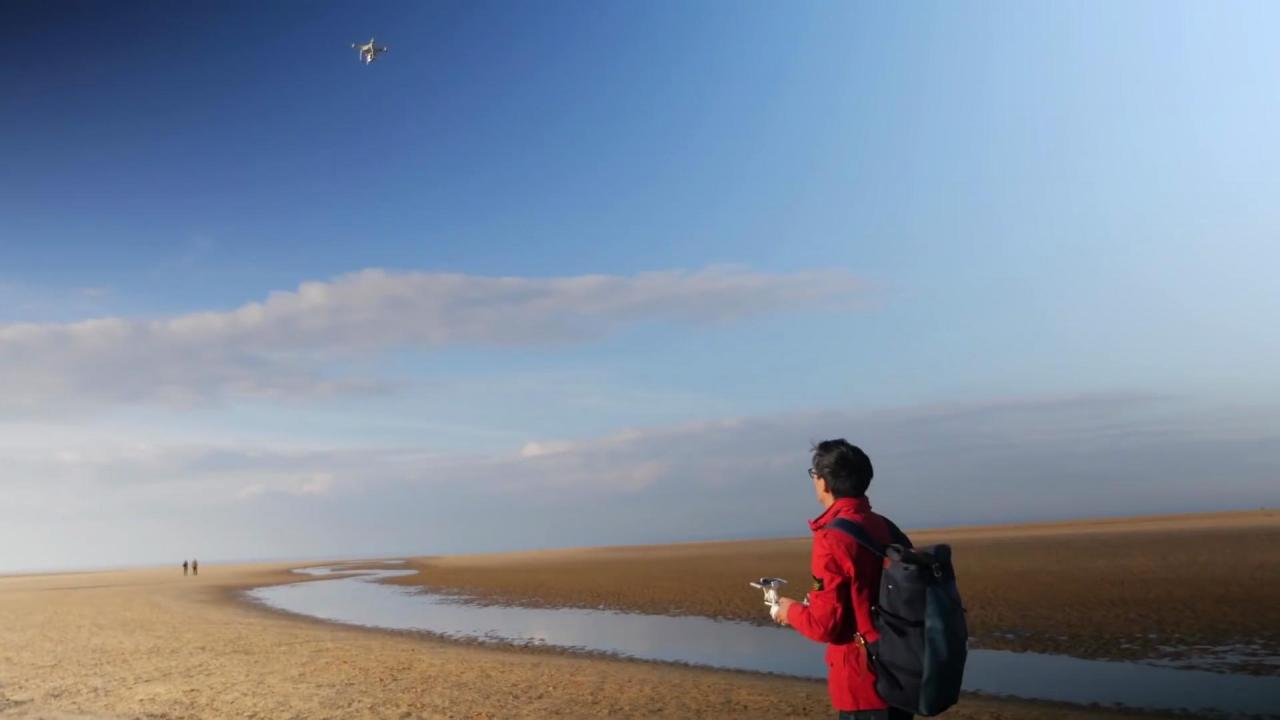Drone: (339, 29, 395, 70)
